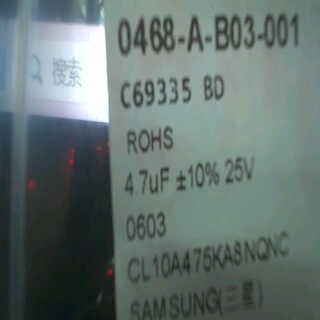4.7uF: (119, 160, 170, 197)
